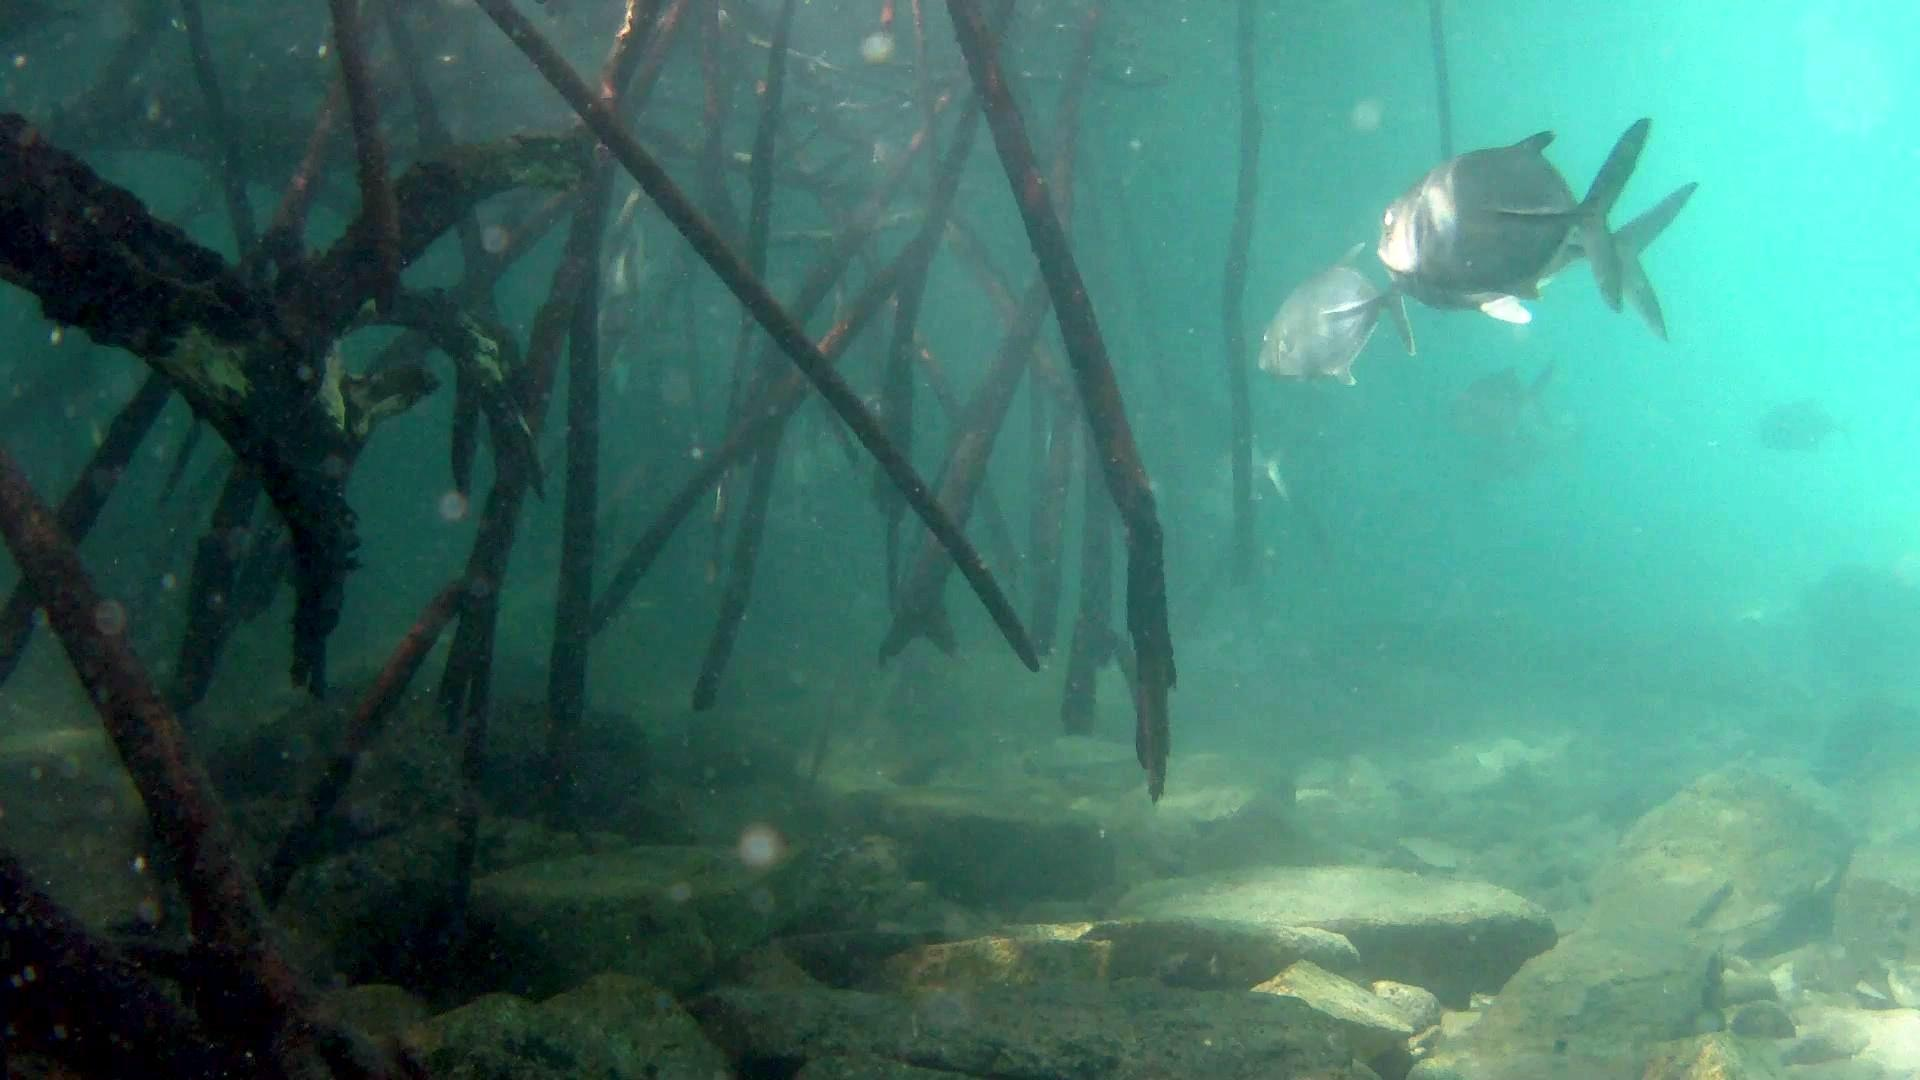caranx: (1361, 103, 1661, 326)
